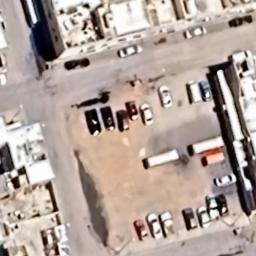SUV: (180, 204, 200, 232), (124, 100, 140, 122), (116, 109, 130, 132)
pickup: (159, 209, 178, 239)
sedan: (82, 107, 102, 137), (132, 217, 151, 243), (157, 82, 175, 108), (206, 192, 222, 221), (117, 43, 144, 60), (99, 106, 116, 132), (147, 211, 163, 238), (140, 100, 156, 126), (184, 24, 210, 40), (212, 172, 237, 188), (215, 192, 230, 218), (199, 79, 214, 102), (197, 204, 211, 228)
unknown: (226, 13, 254, 30), (61, 56, 93, 70)
van: (184, 79, 204, 106)
